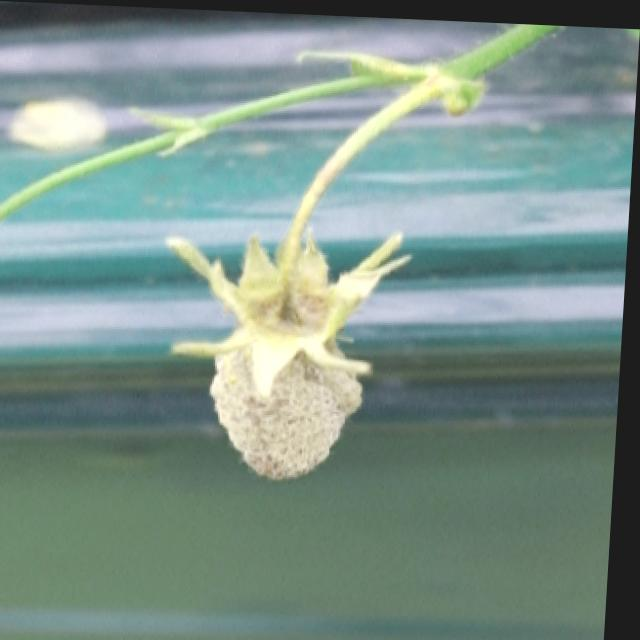Gray Mold: (170, 231, 411, 480)
